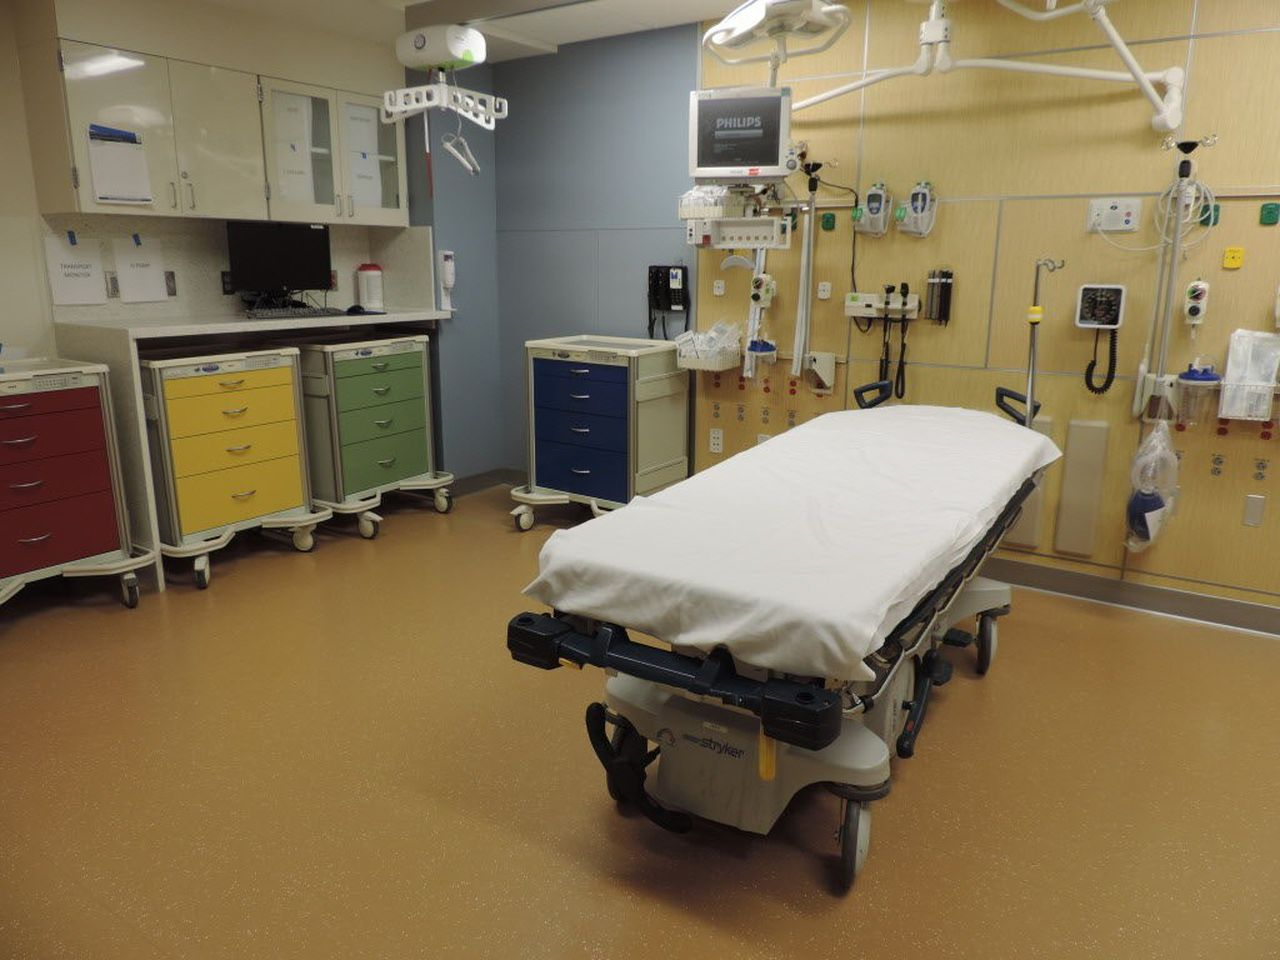bedside_monitor: (687, 90, 800, 181)
cabinet: (38, 37, 413, 229)
computer: (224, 218, 333, 294)
countertop: (67, 299, 459, 333)
handle: (6, 434, 44, 448), (16, 479, 54, 492), (16, 533, 54, 545), (227, 445, 254, 455), (233, 491, 260, 501), (219, 380, 246, 390), (222, 408, 249, 418), (170, 183, 178, 215), (188, 182, 196, 214), (347, 193, 355, 220), (378, 457, 399, 467), (374, 387, 395, 397), (370, 362, 391, 372), (571, 467, 592, 477), (571, 425, 592, 435), (570, 367, 591, 377), (570, 393, 591, 403), (337, 193, 345, 218), (376, 417, 397, 427)
iv_pole: (1024, 257, 1066, 429)
keyboard: (240, 308, 347, 318)
medical_drawer: (140, 344, 321, 584), (1, 350, 154, 629), (287, 336, 454, 562), (510, 335, 689, 536)
mouse: (347, 304, 367, 314)
operating_bed: (506, 404, 1065, 897)
telephone: (642, 266, 691, 337)
